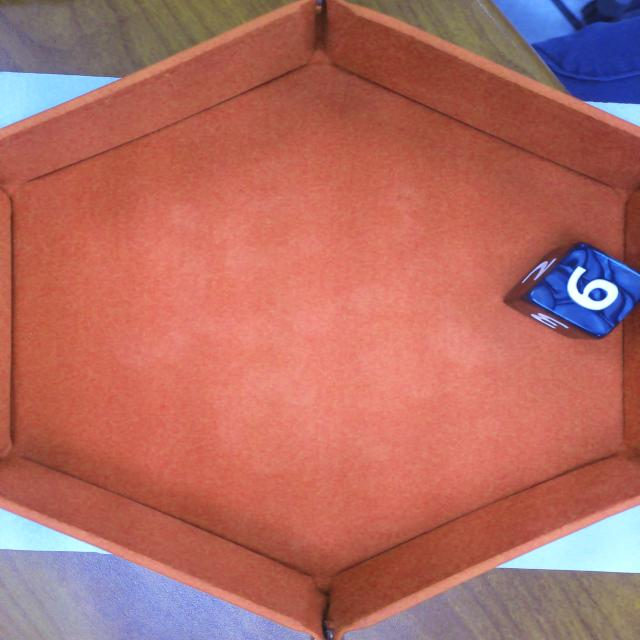dice: (522, 241, 640, 340)
